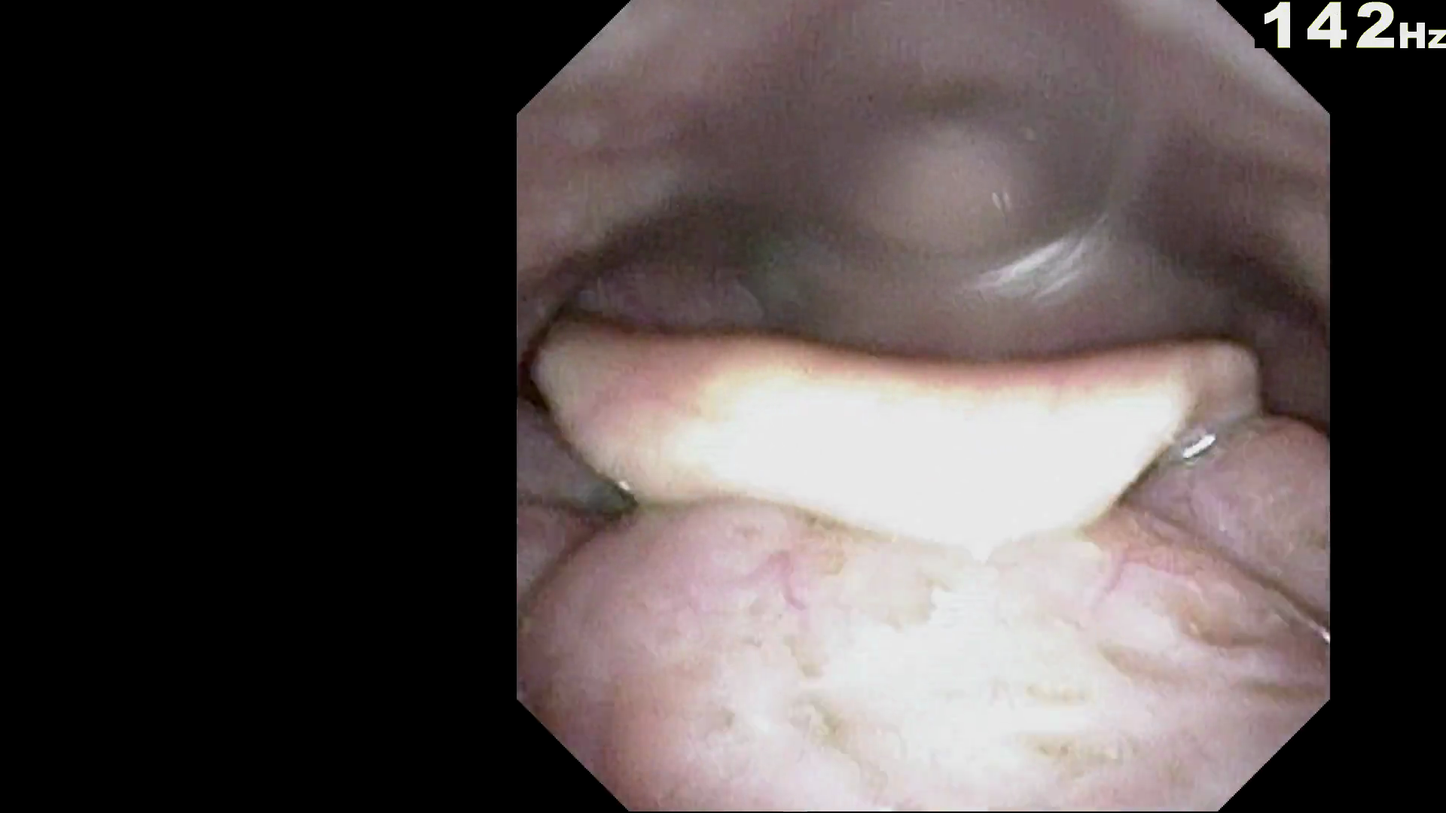epiglottis: (607, 311, 1222, 535)
